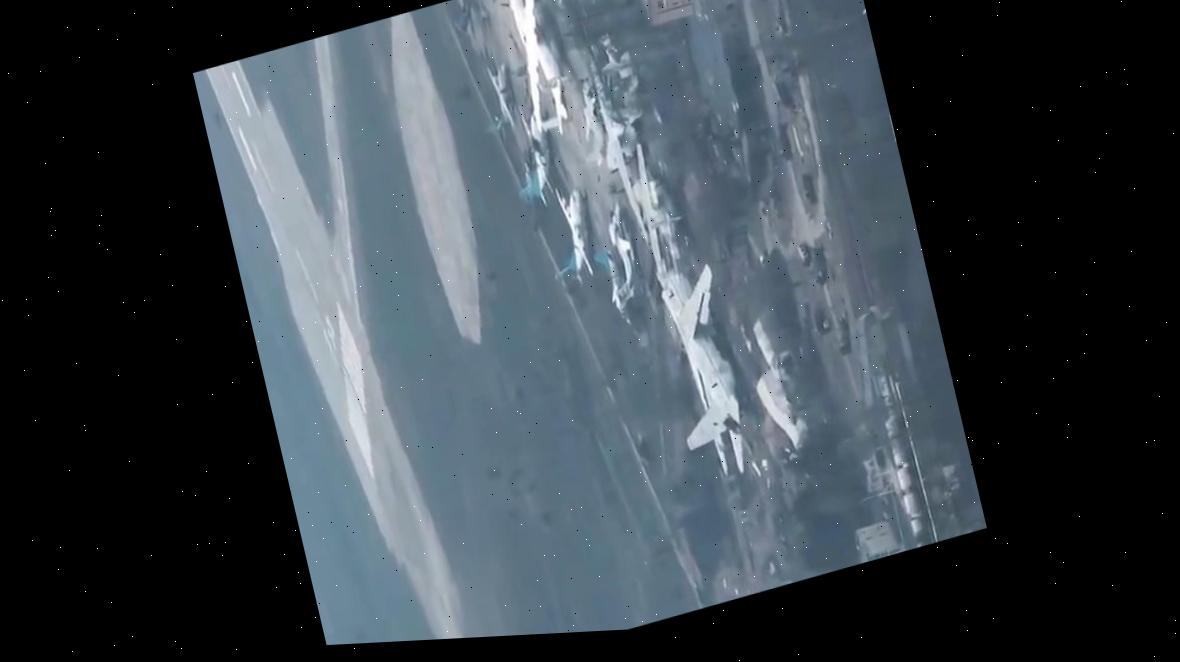plane: (648, 260, 759, 488), (586, 65, 662, 254), (505, 0, 579, 141), (535, 179, 605, 290), (500, 97, 564, 210), (473, 57, 523, 138)
truck: (767, 119, 796, 162), (794, 166, 822, 207)
